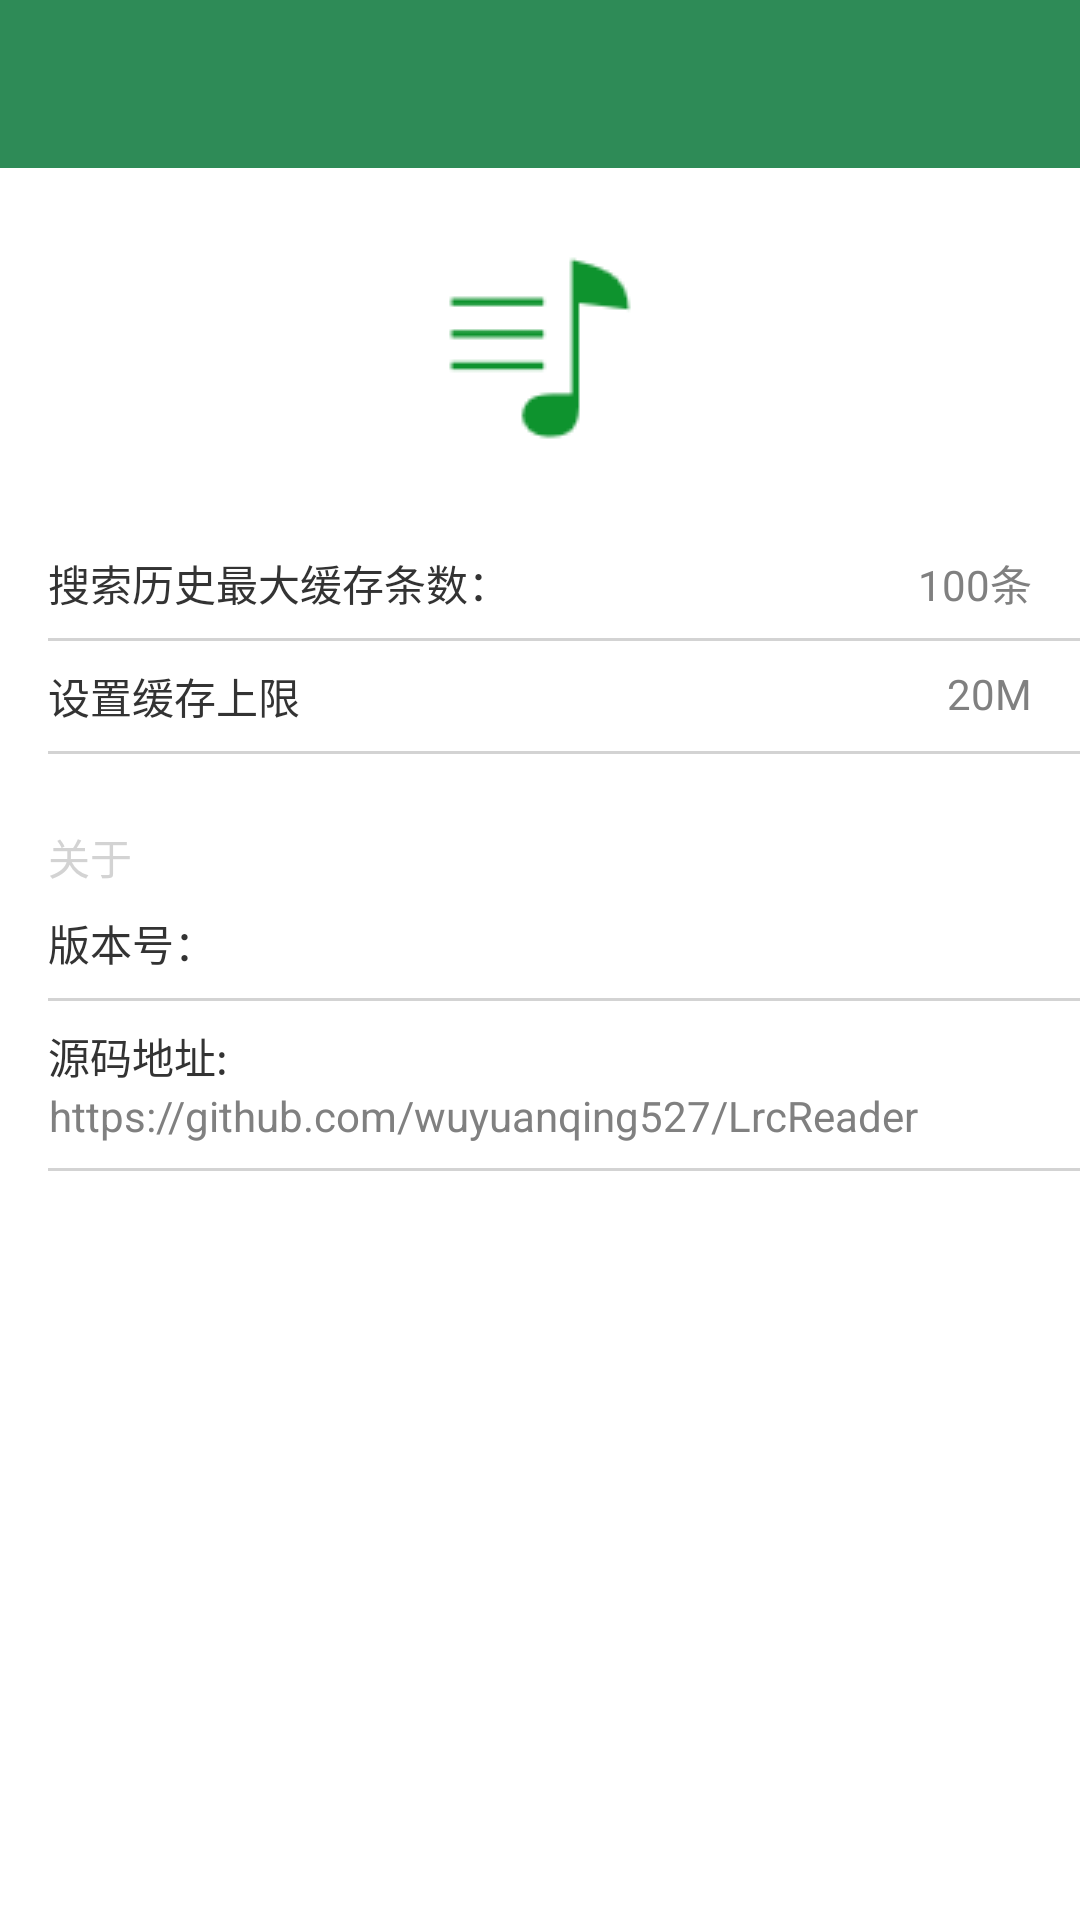

Where icons sit on this 1080*1920 app screen, as (x1,y1,x2,y2):
songlist: (449,258,631,439)
